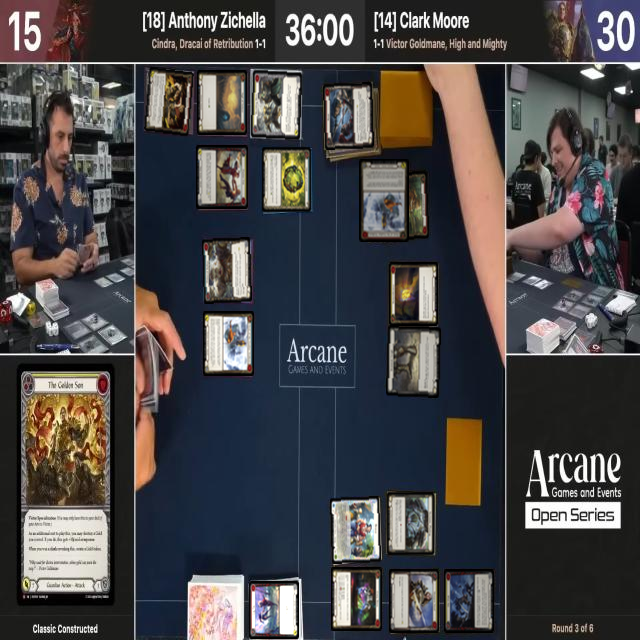Bravo_WTR039: (330, 496, 382, 564)
Buckling_Blow_WTR058: (250, 70, 303, 142)
Crazy_Brew_WTR162: (332, 567, 382, 632)
Demolition_Crew_WTR179: (144, 66, 194, 138)
Flic_Flak_WTR093: (444, 569, 494, 634)
Flock_of_the_Feather_Walkers_WTR182: (360, 160, 410, 243)
Flock_of_the_Feather_Walkers_WTR184: (203, 312, 254, 376)
Fluster_Fist_WTR087: (196, 145, 249, 210)
Heart_of_Fyendal_WTR000: (262, 146, 313, 214)
Ironrot_Legs_WTR158: (386, 326, 441, 398)
Leg_Tap_WTR101: (249, 581, 300, 640)
Primeval_Bellow_WTR037: (203, 238, 253, 304)
Remembrance_WTR163: (389, 263, 439, 327)
Rout_WTR120: (323, 83, 374, 151)
Sharpen_Steel_WTR142: (390, 569, 440, 634)
Sigil_of_Solace_WTR175: (197, 70, 248, 136)
Tectonic_Plating_WTR041: (387, 492, 436, 556)
Wounded_Bull_WTR200: (377, 171, 430, 243)
